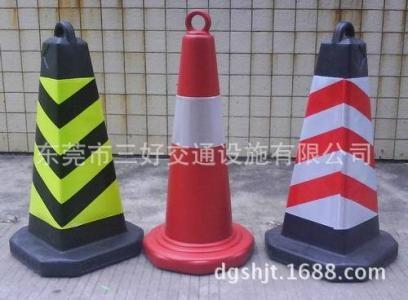cone_barrel: (11, 7, 140, 267), (276, 16, 387, 263), (144, 11, 250, 268)
